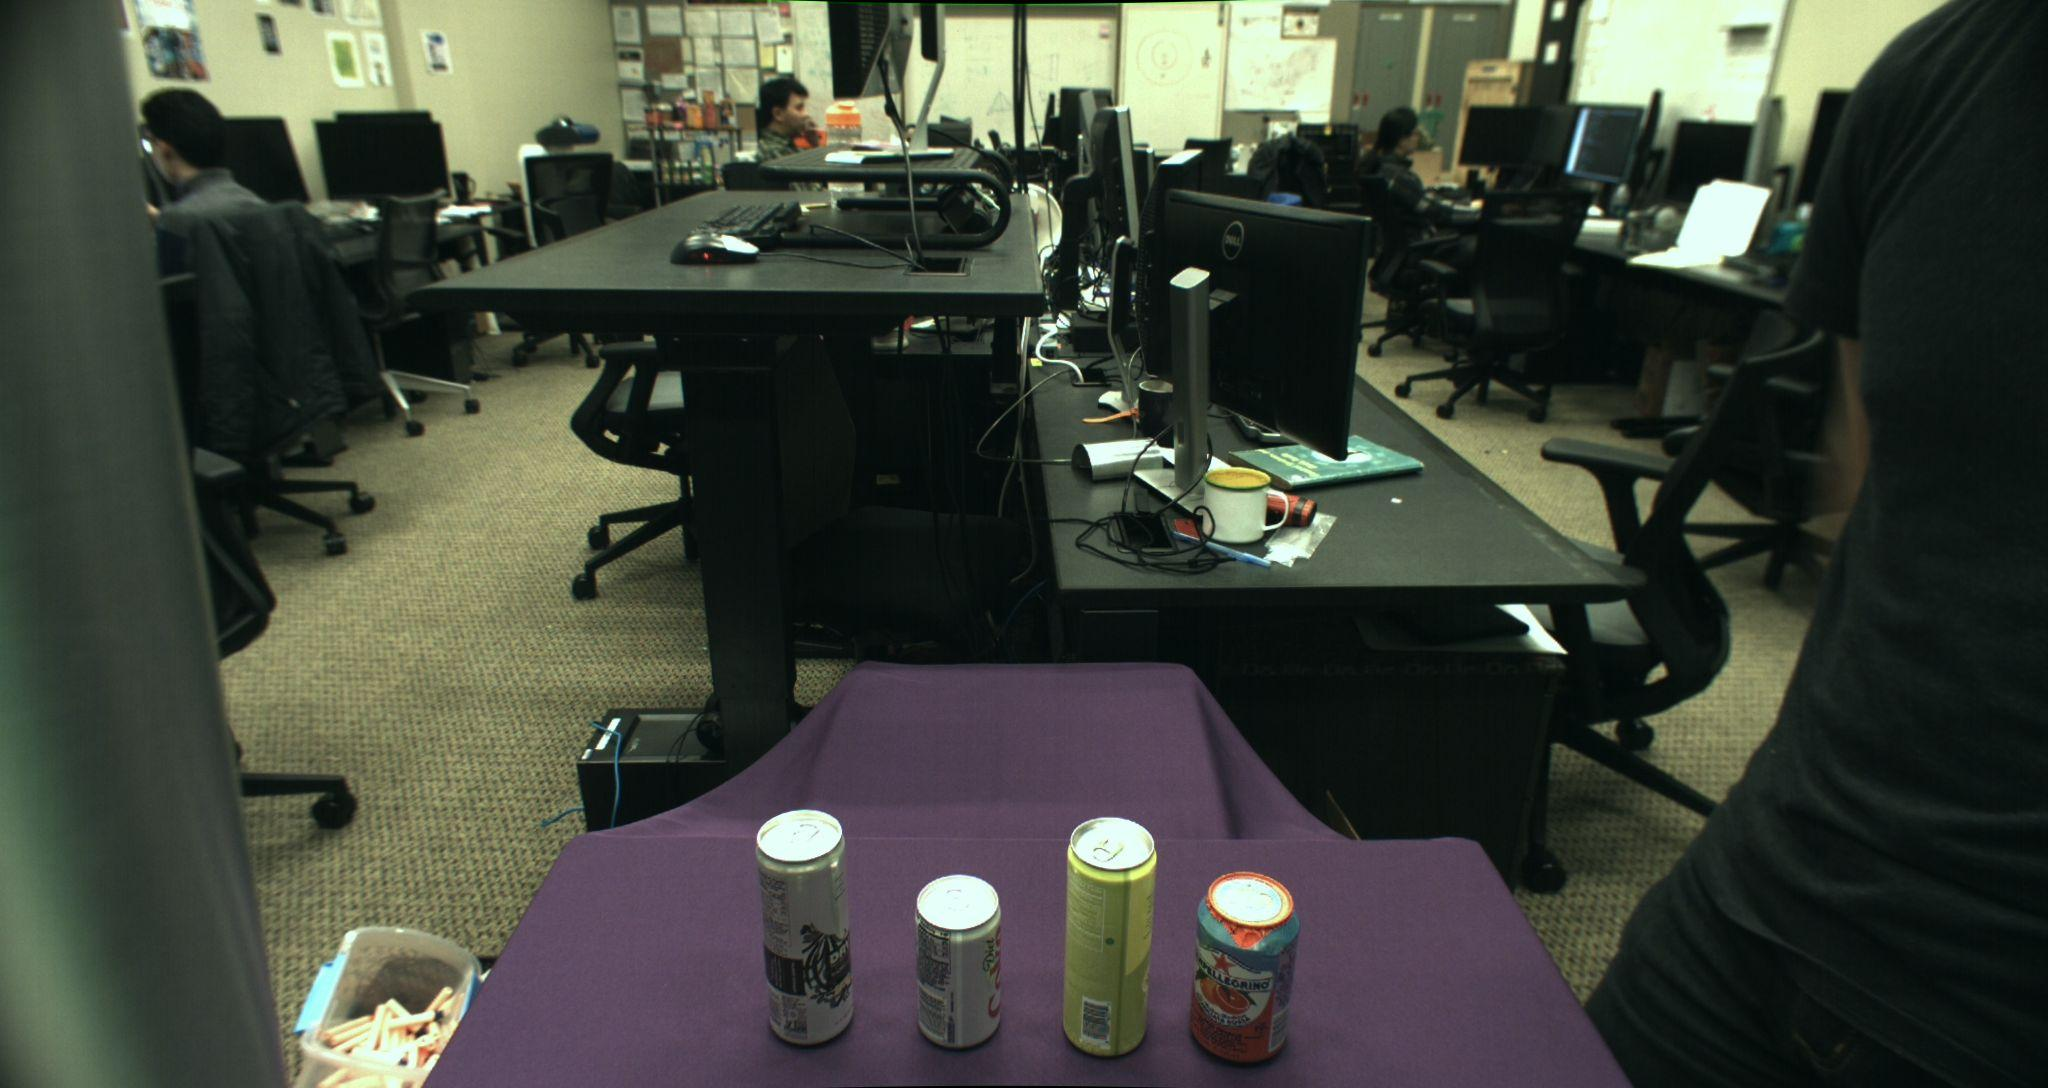can_diet_coke_small: (916, 875, 1002, 1049)
can_dry_sparkling_vanilla_bean: (754, 808, 856, 1047)
can_izze_fusions_lemon_lime: (1061, 817, 1158, 1055)
can_sanpellegrino_blood_orange: (1191, 871, 1302, 1064)
